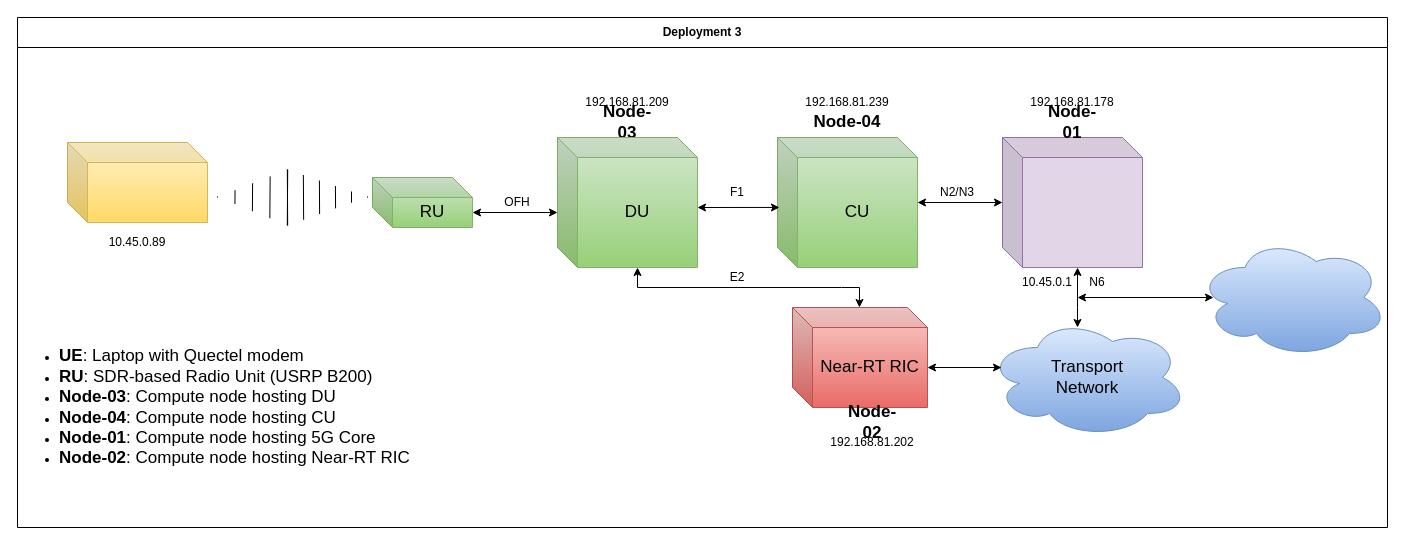
This 1405x545 diagram has some shape labels left out. The shapes that lost their labels are listed below. From the top down, each one's box as (x1, y1, x2, y2) in pixels, then its label:
(66, 142, 208, 222): UE
(1002, 136, 1142, 268): Open5GS
(1196, 236, 1388, 358): Internet
